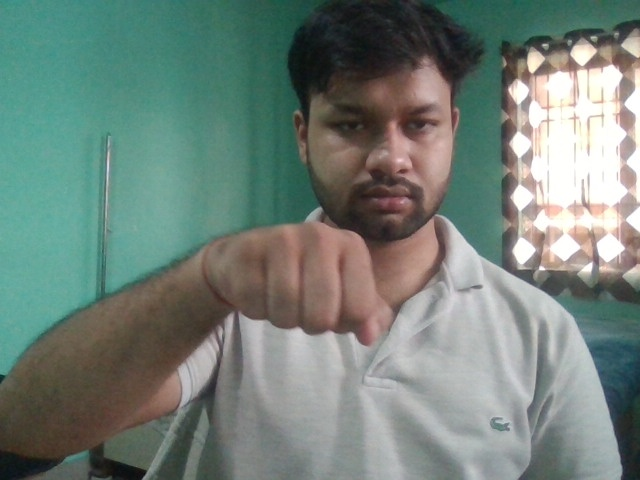Yes: (206, 221, 397, 348)
